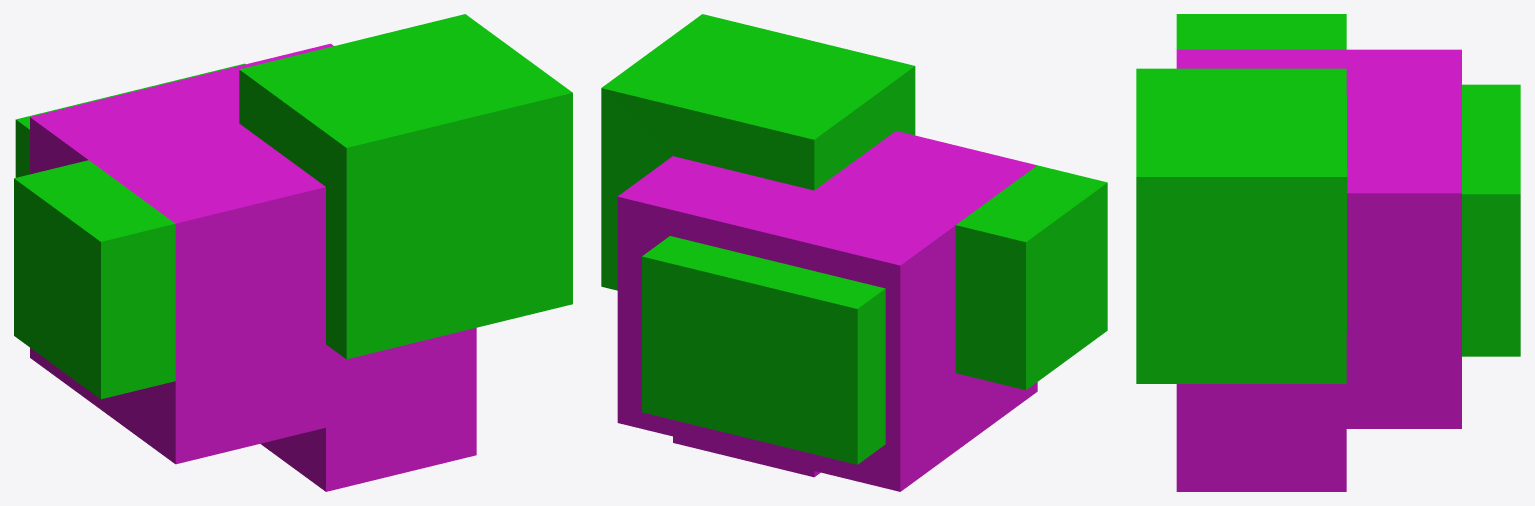
The model's file is SM_Mineral_3.fbx.
The picture shows the model from 3 angles, left to right: view 1: azimuth 30°, elevation 25°; view 2: azimuth 150°, elevation 25°; view 3: azimuth 270°, elevation 25°; orthographic projection. The views are drawn at different scales.
Parts seen in each view (by area): view 1: Cube; view 2: Cube; view 3: Cube.
Part boxes in pixels (x1,y1,x2,y2): Cube: [14, 14, 572, 491]; Cube: [601, 14, 1107, 491]; Cube: [1136, 14, 1520, 491].
Bounding box in the file's own units: 0.0762 × 0.0579 × 0.0574.
